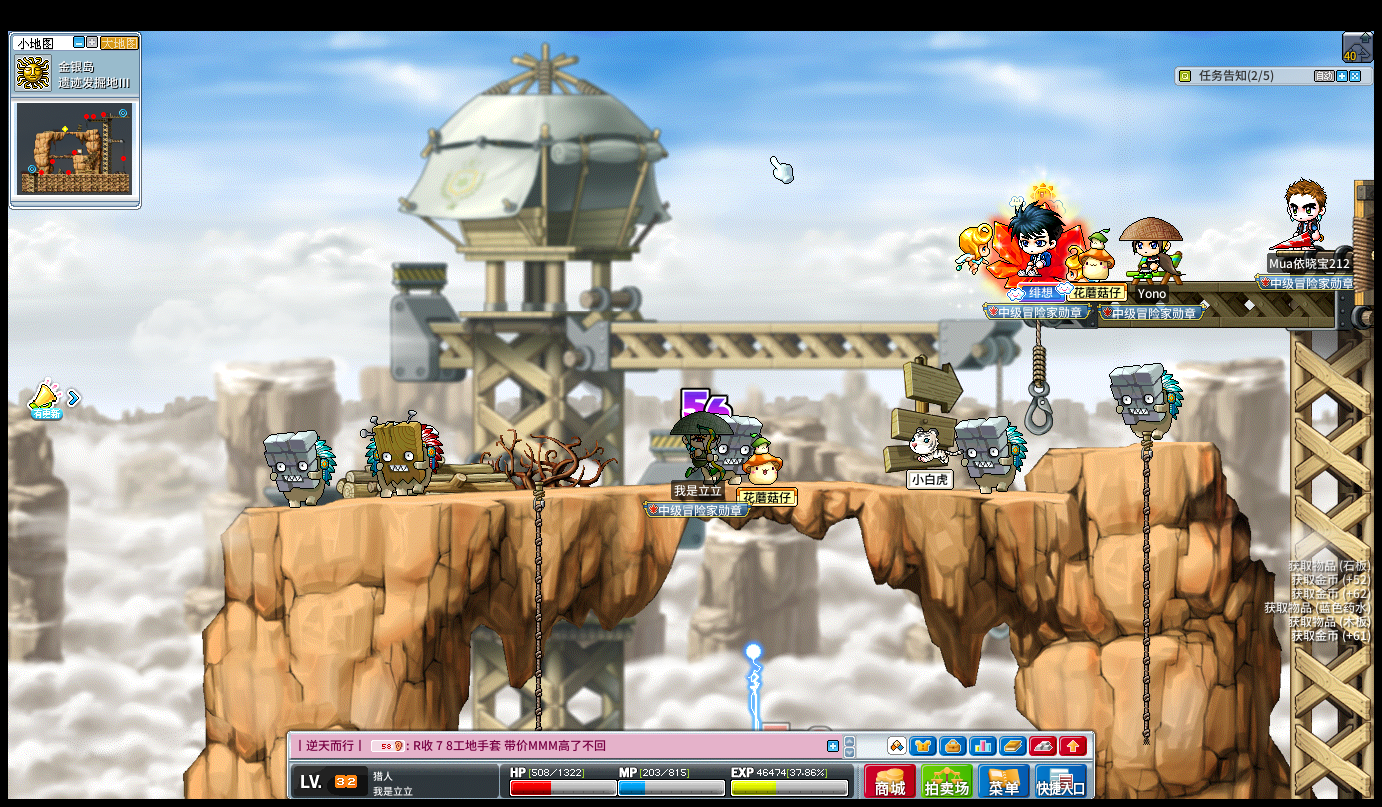floor: (248, 476, 1098, 505), (1050, 440, 1220, 455), (1054, 437, 1218, 452)
monster: (360, 412, 443, 499), (1107, 361, 1184, 445), (260, 429, 336, 509), (955, 416, 1028, 494)
rope: (1138, 424, 1153, 755), (1138, 431, 1152, 655), (531, 480, 544, 686)
